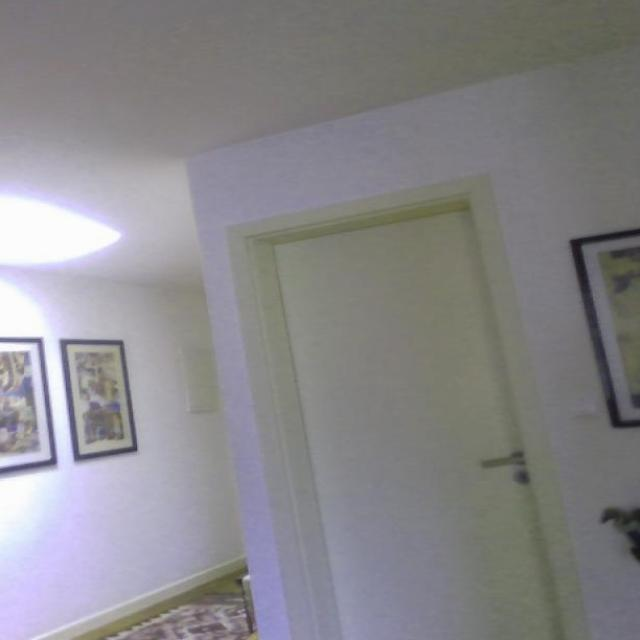door: (228, 174, 590, 638)
